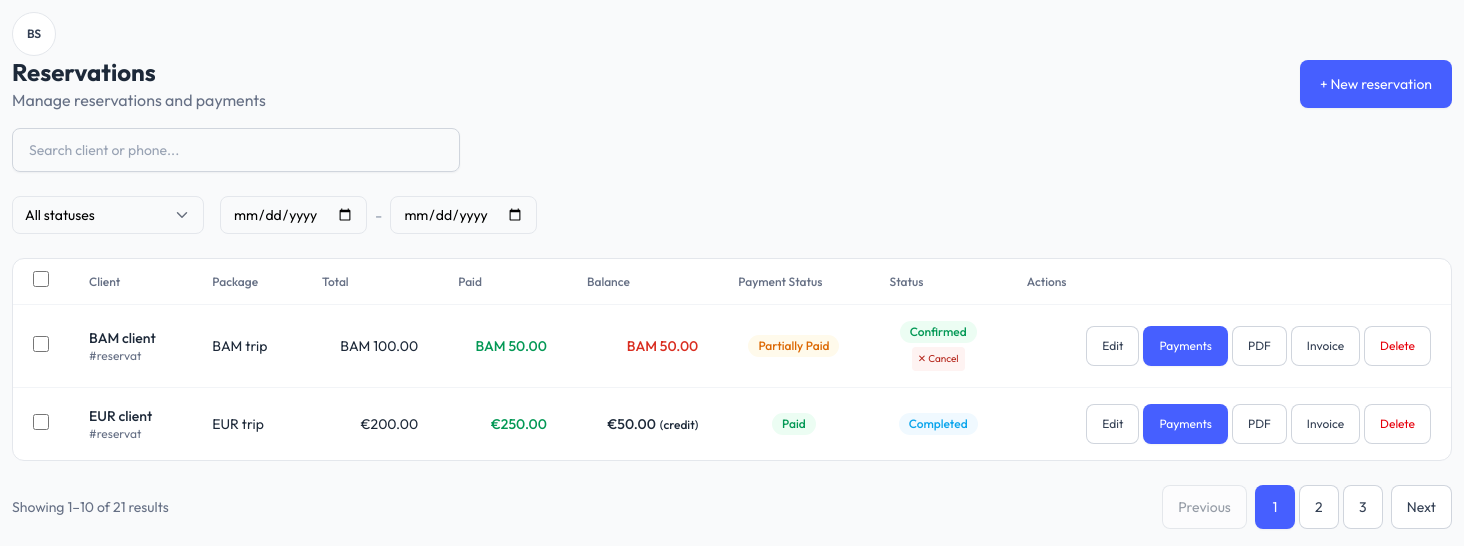
Test case: does not retain another organization list when the active context changes
expect the text "EUR client" is shown: met, box x1=89 y1=407 x2=152 y2=425
Click the button with aria-label "Switch to Bosnian" at (34, 34), box x1=12 y1=12 x2=56 y2=56
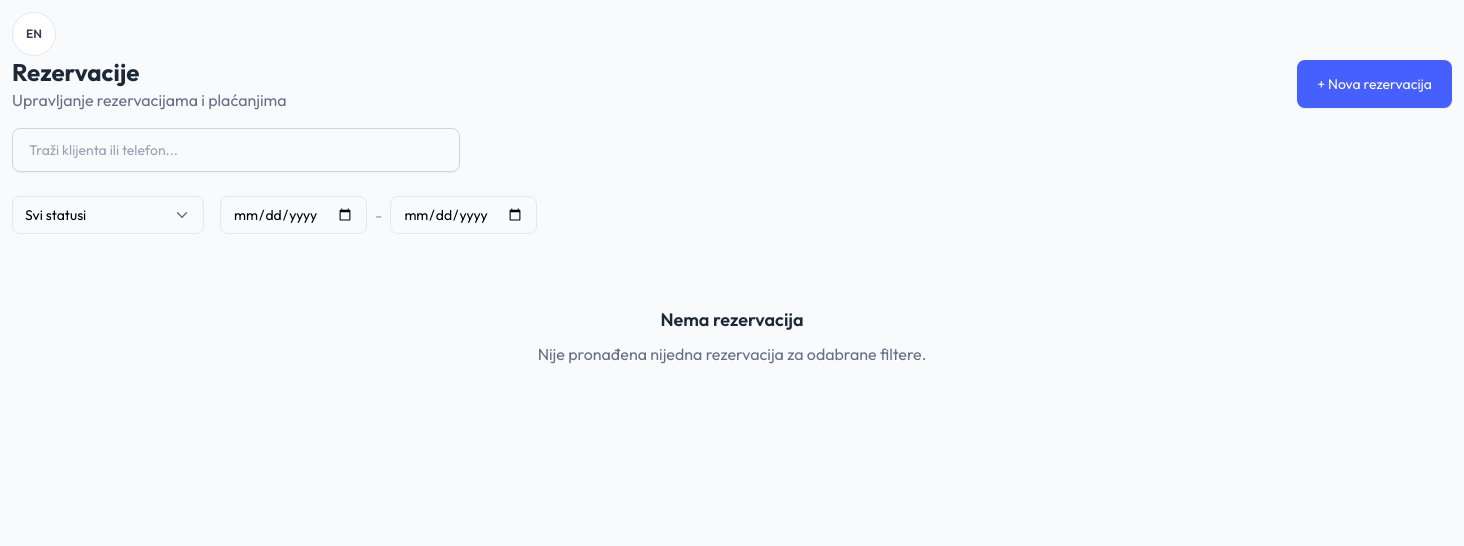
expect the heading "Nema rezervacija" is shown: met, box x1=660 y1=306 x2=804 y2=334
expect the text "EUR client" is gone: met
